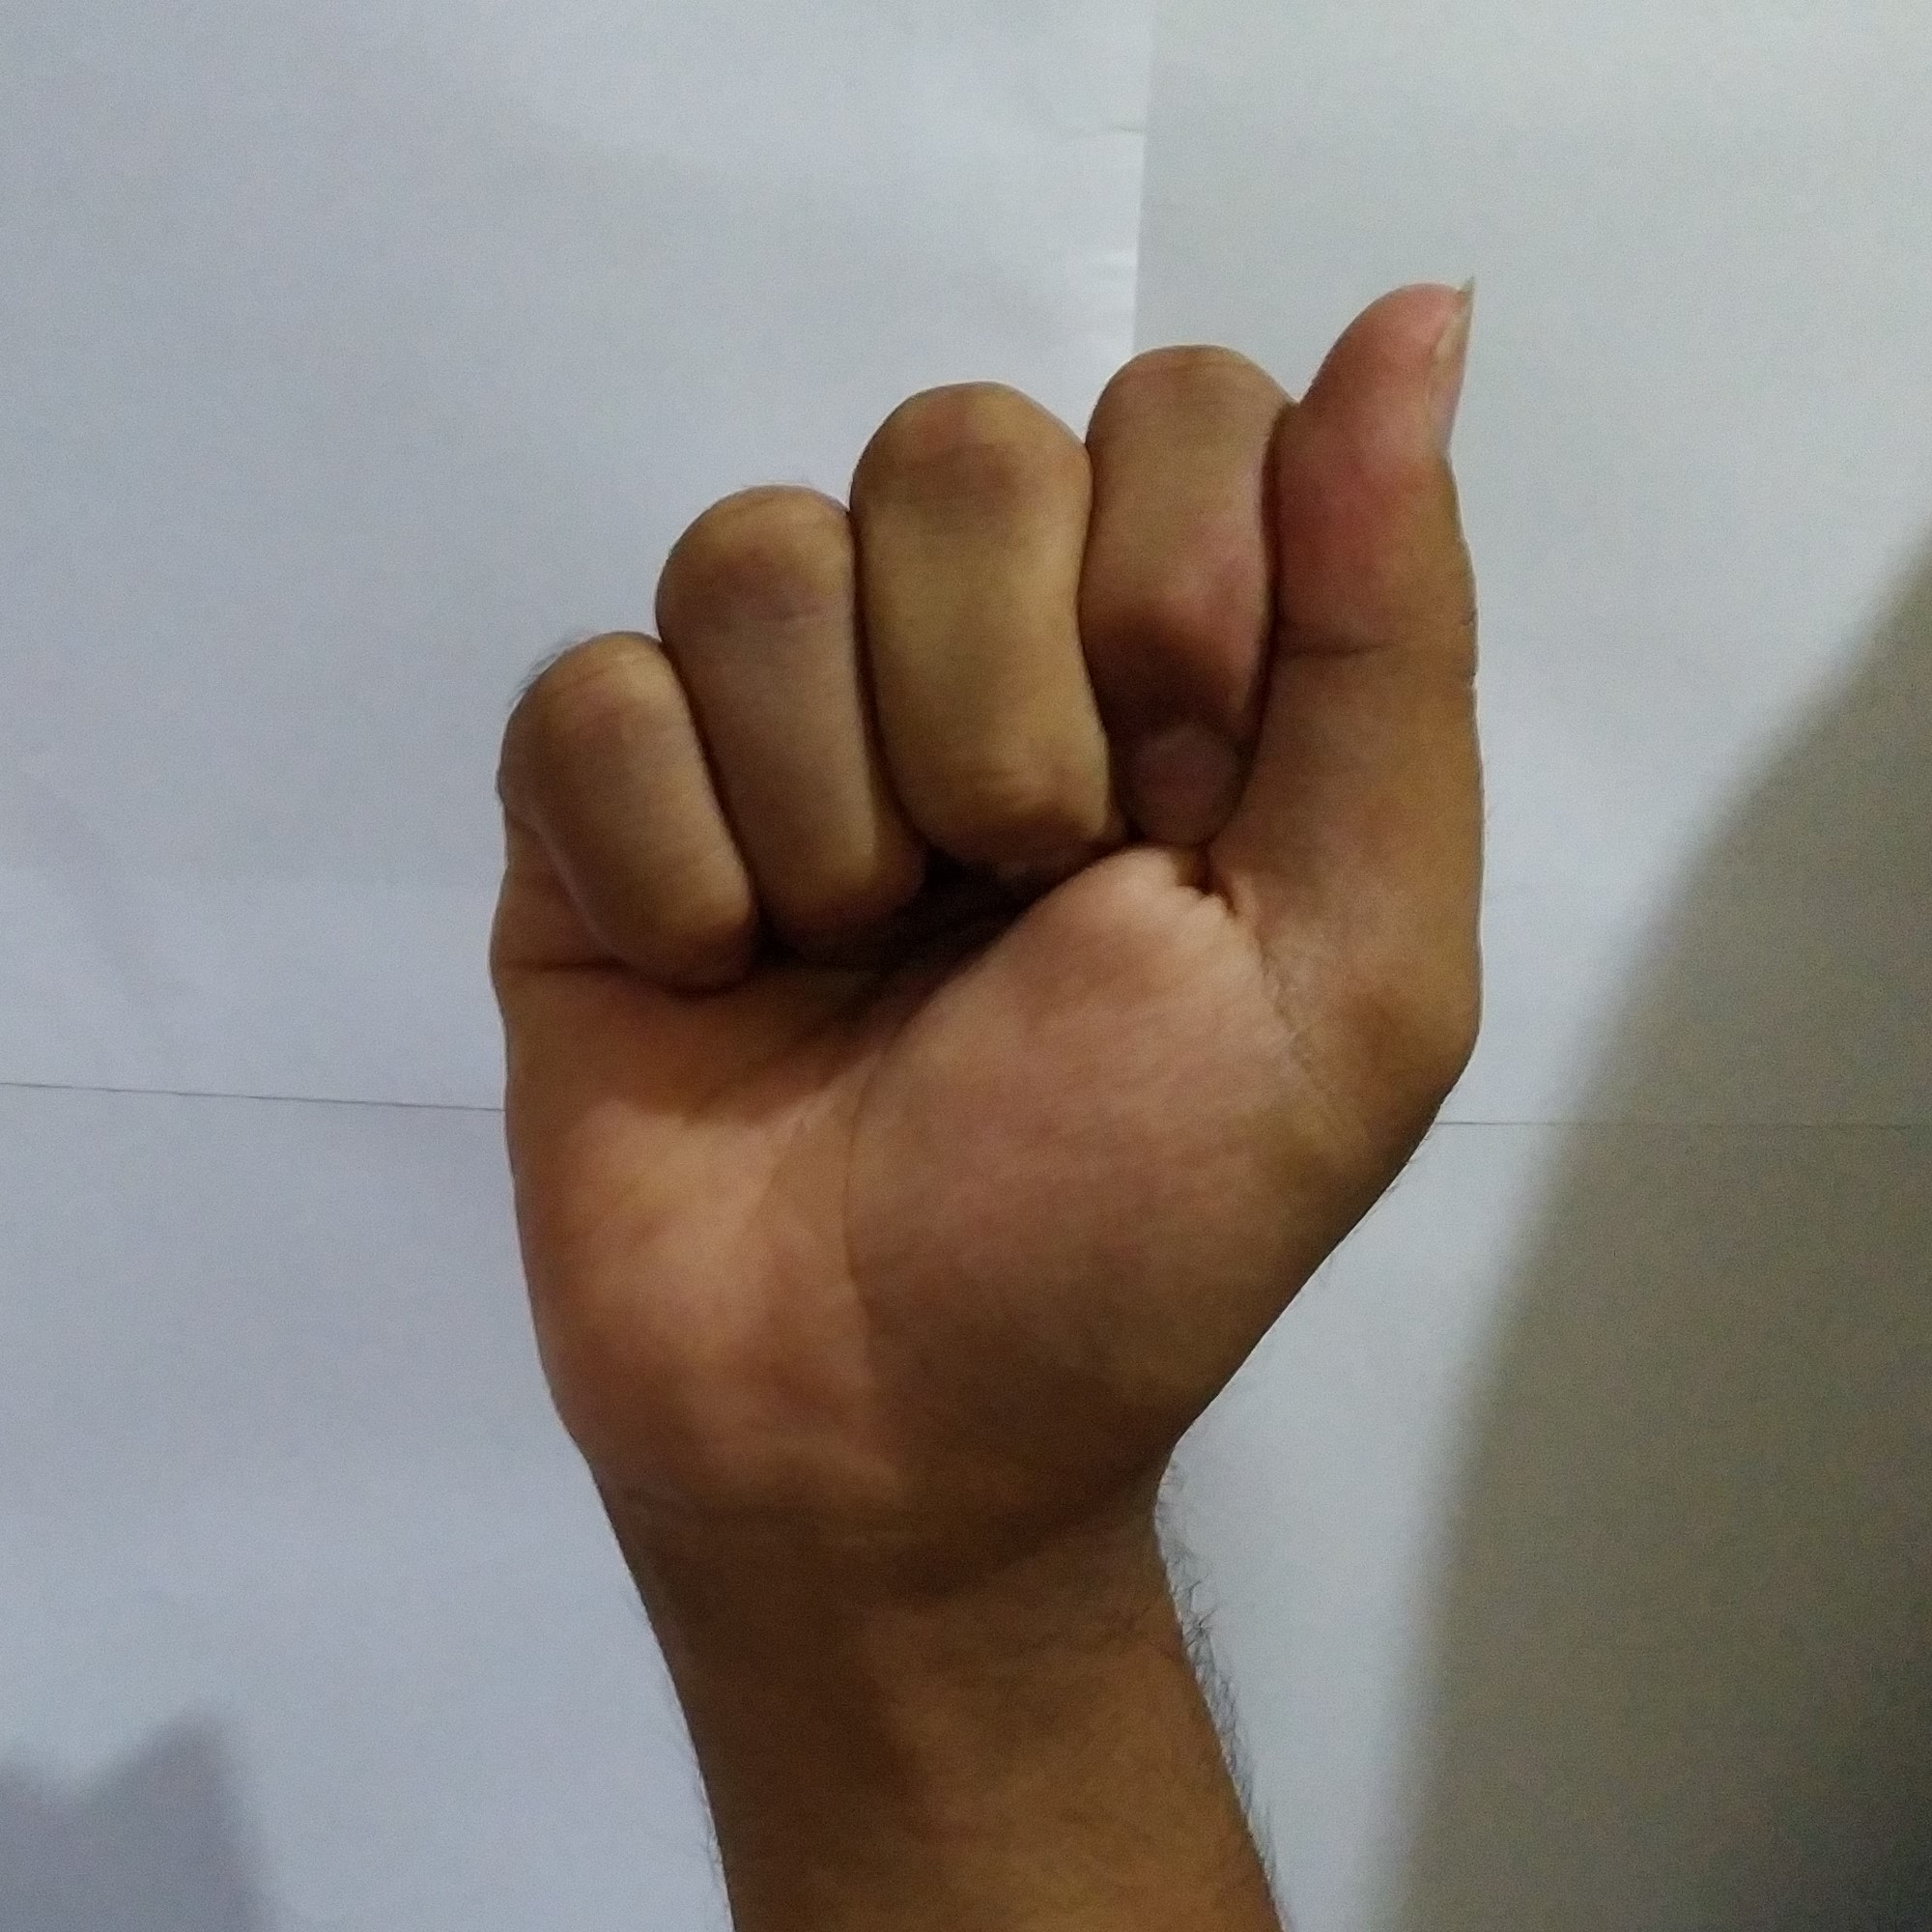A: (460, 262, 1509, 1562)
